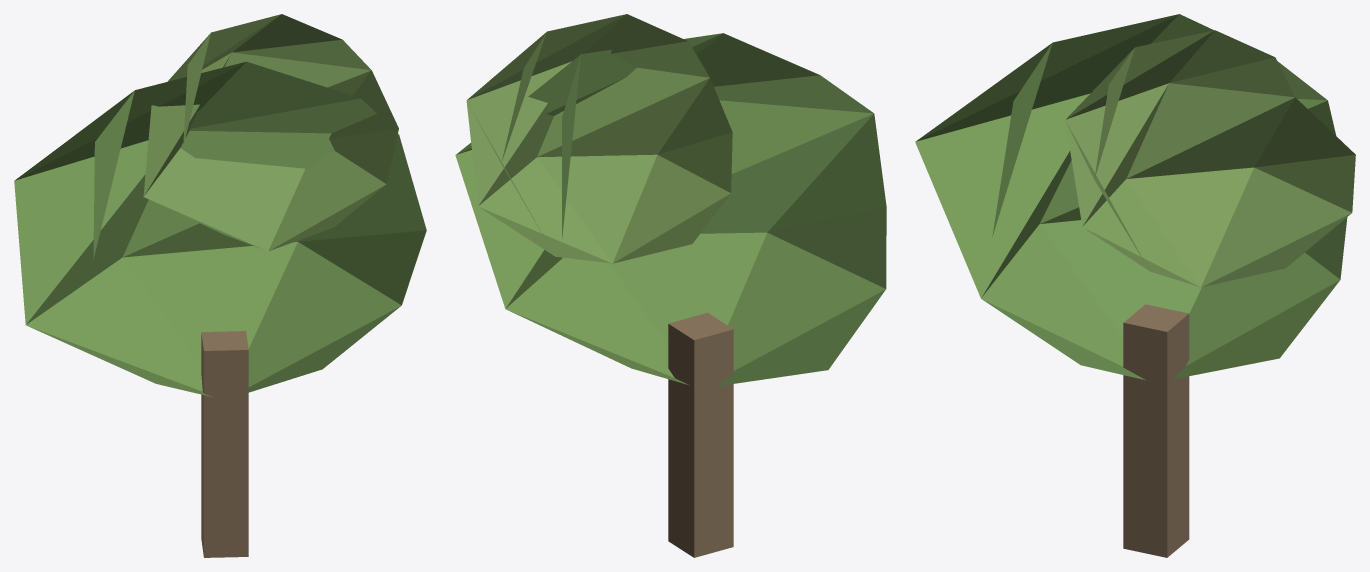
The model's file is oak_3.glb.
The picture shows the model from 3 angles, left to right: view 1: azimuth 30°, elevation 25°; view 2: azimuth 150°, elevation 25°; view 3: azimuth 270°, elevation 25°; orthographic projection. The views are drawn at different scales.
Bounding box in the file's own units: 5.15 × 6.6 × 4.95.
